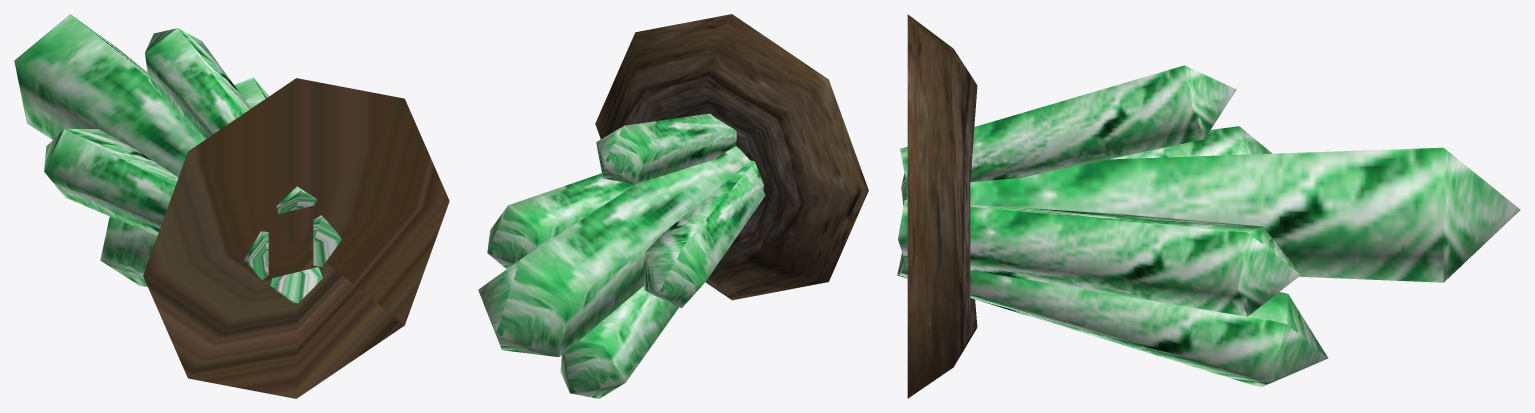
The model's file is crdan_3.FBX.
The picture shows the model from 3 angles, left to right: view 1: azimuth 30°, elevation 25°; view 2: azimuth 150°, elevation 25°; view 3: azimuth 270°, elevation 25°; orthographic projection. The views are drawn at different scales.
Visible parts, largest first — view 1: Box001; view 2: Box001; view 3: Box001.
Part boxes in pixels (bbox=[...]): Box001: bbox=[14, 14, 449, 398]; Box001: bbox=[478, 14, 868, 398]; Box001: bbox=[897, 14, 1520, 398].
Size of the model in its own units: 0.0542 by 0.0542 by 0.0826.
